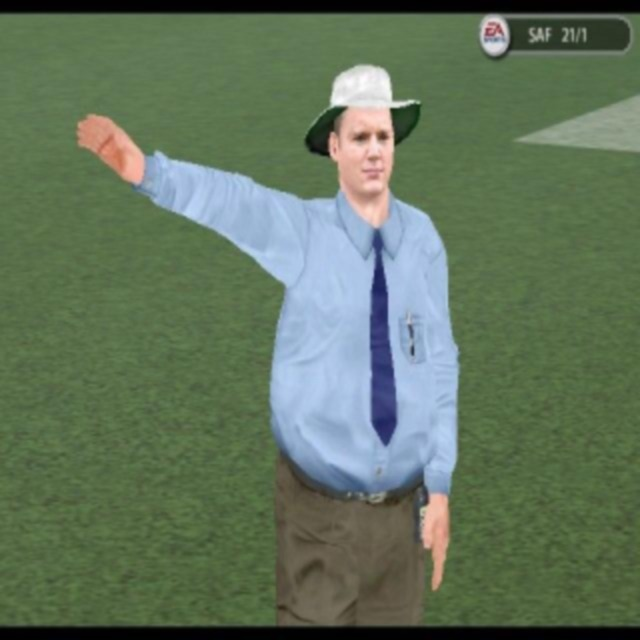No_Ball: (70, 56, 466, 640)
